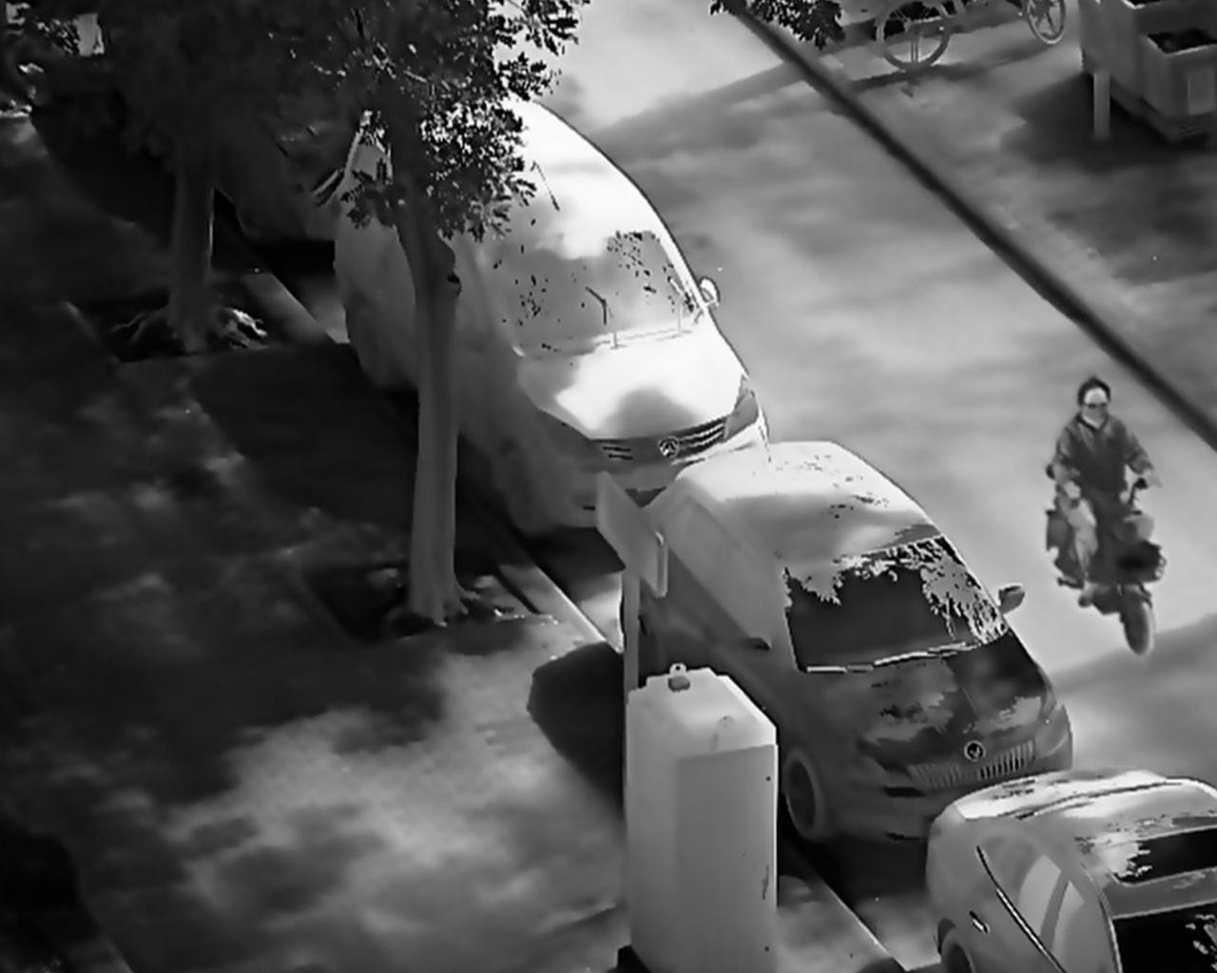person: (1047, 377, 1166, 612)
